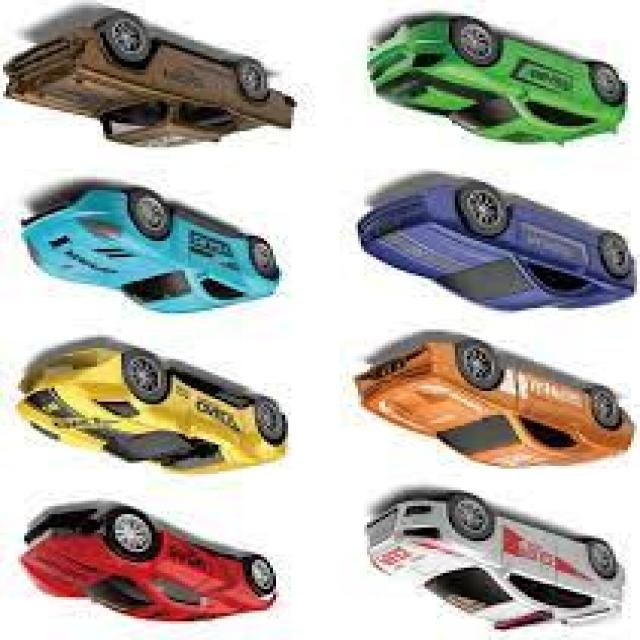Car: (0, 14, 297, 150), (361, 492, 625, 634), (355, 182, 637, 313), (352, 340, 634, 471), (12, 348, 288, 477), (364, 16, 628, 147), (18, 187, 279, 316), (15, 508, 276, 626)
